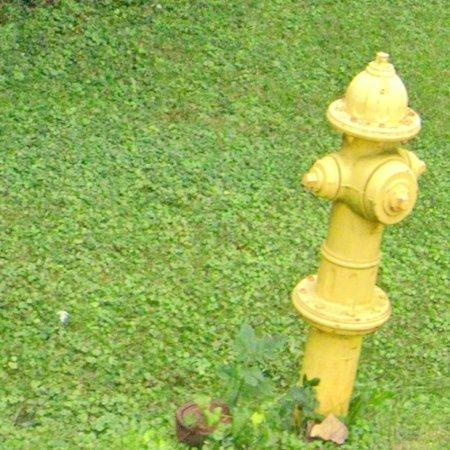a fire hydrant: (293, 52, 427, 418)
